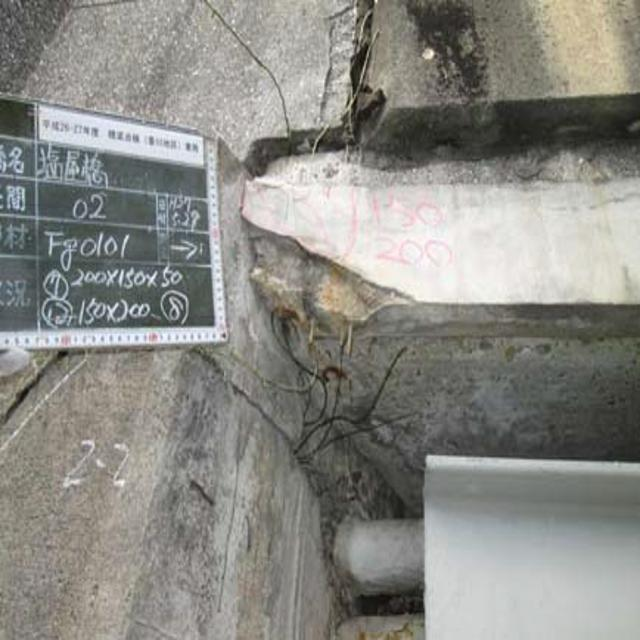spalling: (237, 204, 416, 354), (308, 4, 406, 139)
